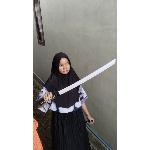Pedang: (37, 55, 117, 107)
